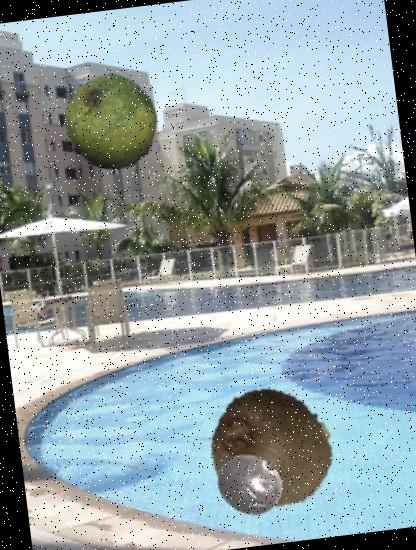Kiwi: (199, 378, 341, 520)
Limes: (57, 69, 166, 177)
Passion: (212, 448, 288, 524)
